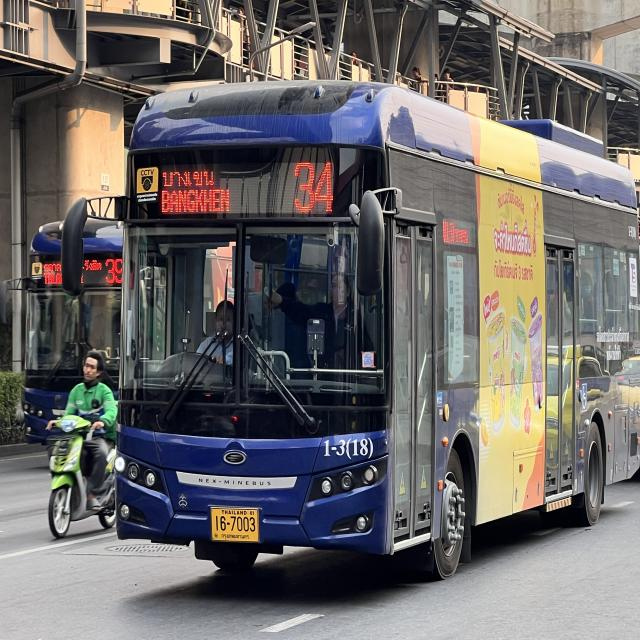Bus-Line-Number: (289, 149, 340, 222), (105, 255, 125, 287)
Destination-Sign-Normal: (156, 160, 247, 222), (40, 258, 104, 287)
TSB-Bus: (106, 70, 640, 589), (16, 216, 131, 449)
